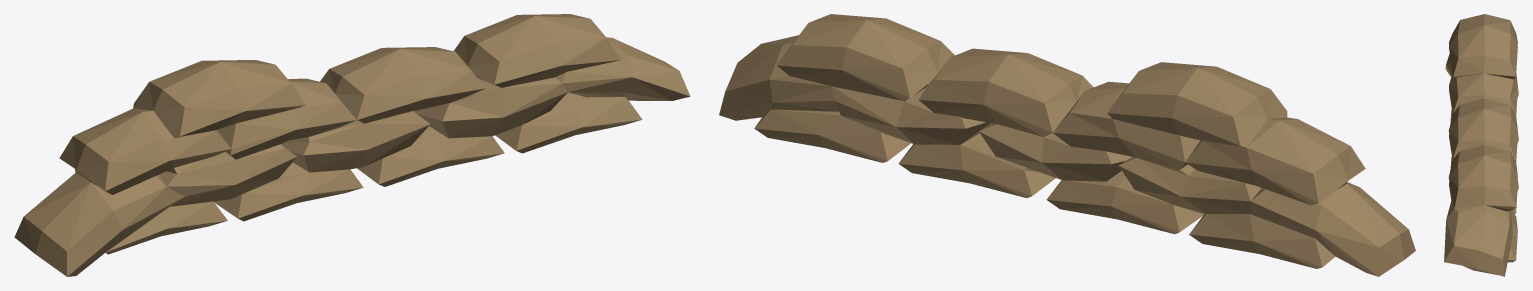
Rendered from model_Sandbags_01.fbx.
3 views of the same model, side by side, from view 1: azimuth 30°, elevation 25°; view 2: azimuth 150°, elevation 25°; view 3: azimuth 270°, elevation 25° (orthographic). The views are drawn at different scales.
Visible parts, largest first — view 1: model_Sandbags_01; view 2: model_Sandbags_01; view 3: model_Sandbags_01.
Part boxes in pixels (left/top/right/bottom): model_Sandbags_01: left=14, top=14, right=690, bottom=276; model_Sandbags_01: left=719, top=14, right=1415, bottom=276; model_Sandbags_01: left=1444, top=14, right=1518, bottom=276.
Bounding box in the file's own units: 385 × 89.34 × 55.44.
Materials: 1 (1 with a texture image).
